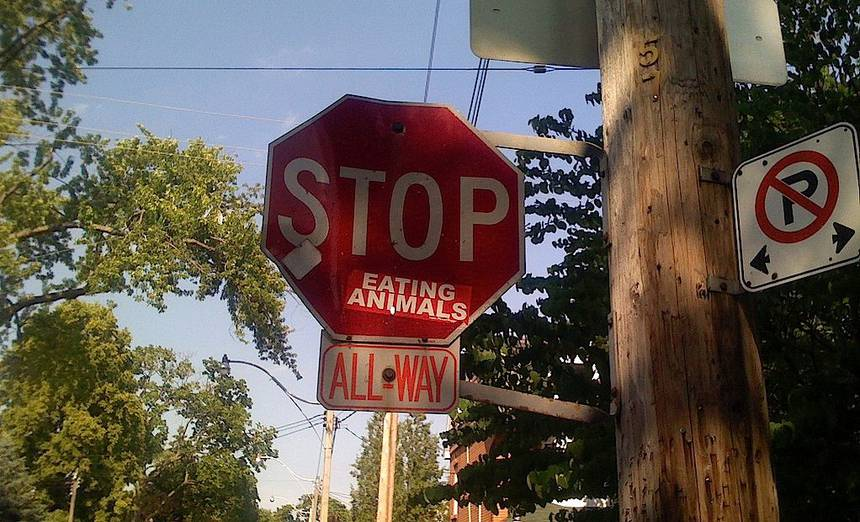stop_sign: (261, 92, 527, 344)
